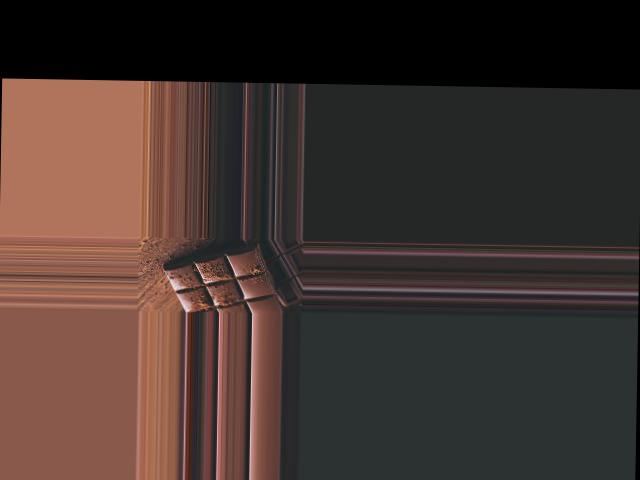chocolate: (157, 243, 284, 312)
